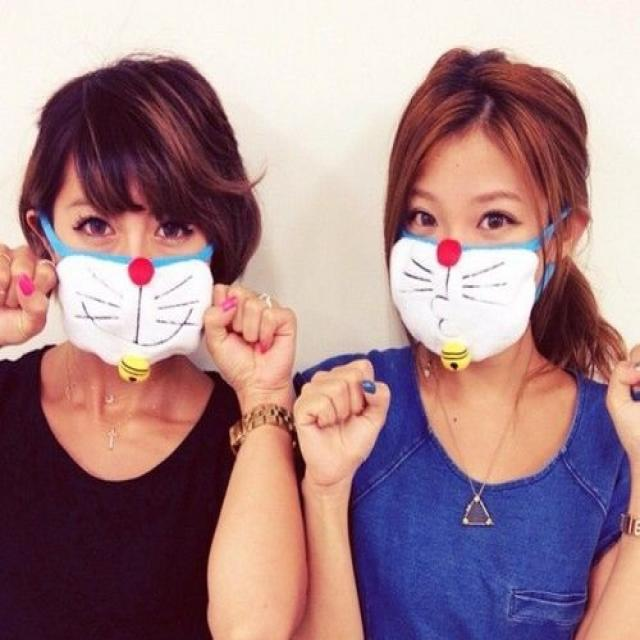mask: (48, 141, 211, 362), (390, 121, 544, 350)
